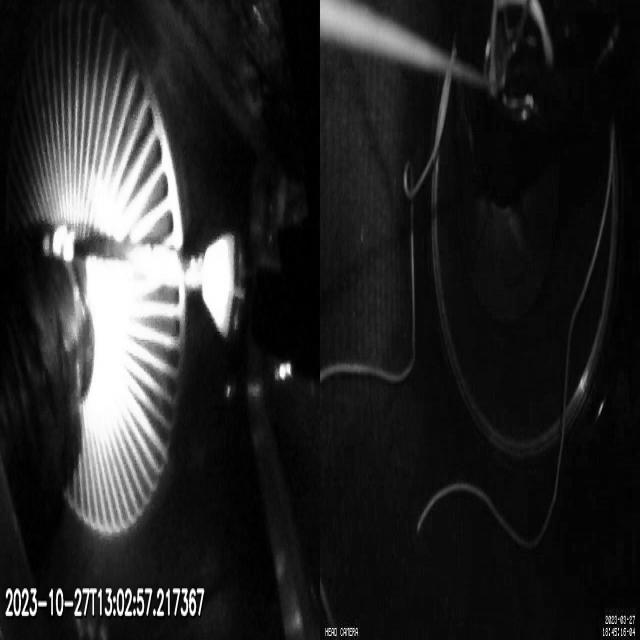head: (201, 235, 282, 336)
white-dots: (43, 224, 76, 263)
